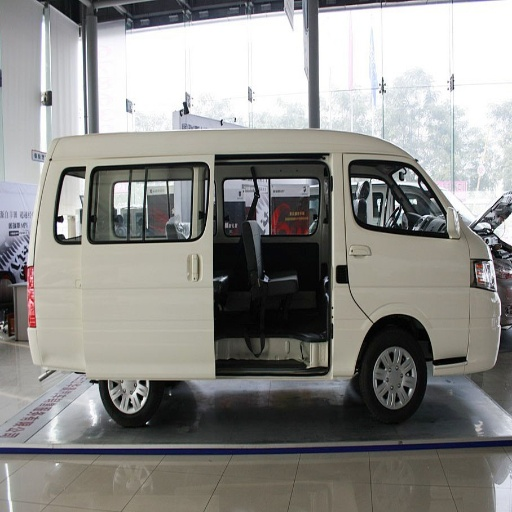trunk: (335, 244, 494, 373), (87, 245, 189, 374)
